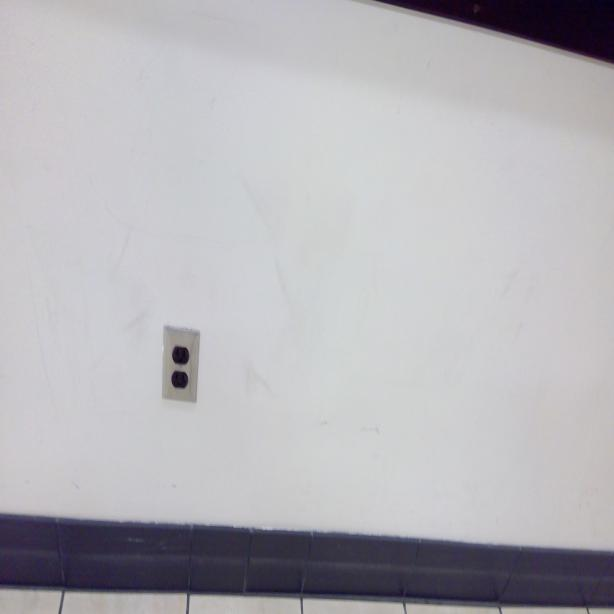typeb: (172, 371, 189, 391), (172, 344, 188, 364)
